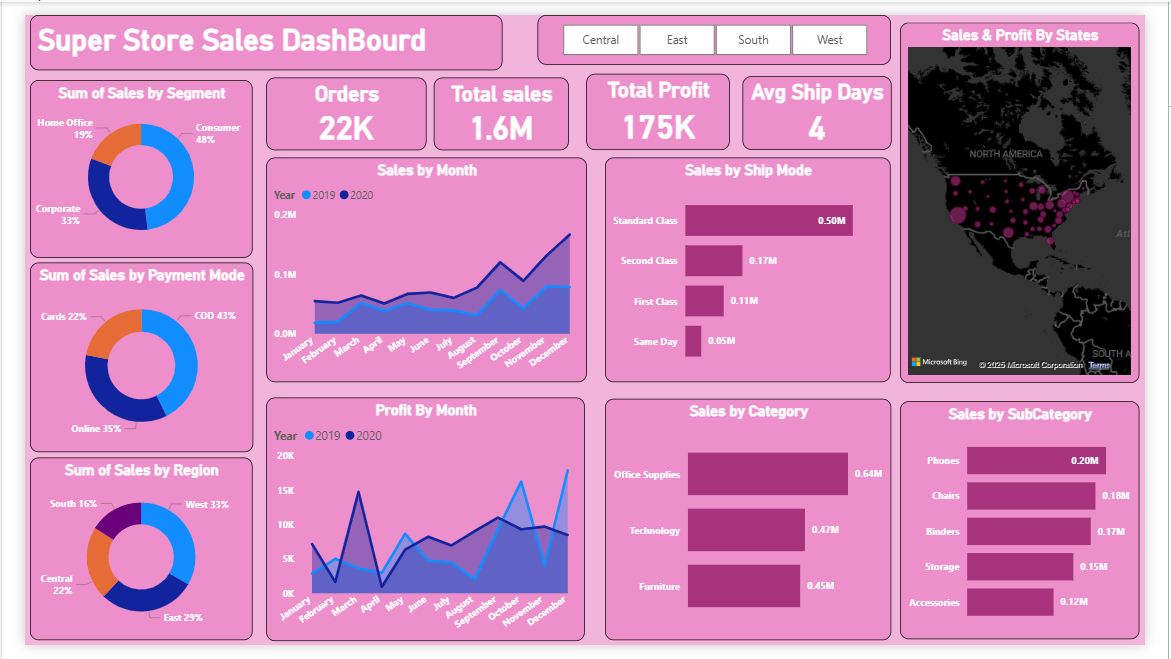

This screenshot's page, from the dashboard's own definition file:
{"tool":"powerbi","page":{"name":"Dashbourd","canvas":[1280,720],"ordinal":0},"visuals":[{"type":"clusteredBarChart","title":"Sales by Category","fields":{"Category":["SuperStore_Sales_Dataset (2).Category"],"Y":["Sum(SuperStore_Sales_Dataset (2).Sales)"]},"box":[662.9,438.6,327.1,275.7],"z":0},{"type":"clusteredBarChart","title":"Sales by SubCategory","fields":{"Category":["SuperStore_Sales_Dataset (2).Sub-Category"],"Y":["Sum(SuperStore_Sales_Dataset (2).Sales)"]},"box":[1000,441.7,273.3,271.7],"z":1000},{"type":"clusteredBarChart","title":"Sales by Ship Mode","fields":{"Category":["SuperStore_Sales_Dataset (2).Ship Mode"],"Y":["Sum(SuperStore_Sales_Dataset (2).Sales)"]},"box":[663.3,163.3,326.7,256.7],"z":2000},{"type":"areaChart","title":"Sales by Month","fields":{"Category":["SuperStore_Sales_Dataset (2).Order Date.Variation.Date Hierarchy.Month"],"Y":["Sum(SuperStore_Sales_Dataset (2).Sales)"],"Series":["SuperStore_Sales_Dataset (2).Order Date.Variation.Date Hierarchy.Year"]},"box":[275,163.3,366.7,256.7],"z":3000},{"type":"areaChart","title":"Profit By Month","fields":{"Category":["SuperStore_Sales_Dataset (2).Order Date.Variation.Date Hierarchy.Month"],"Series":["SuperStore_Sales_Dataset (2).Order Date.Variation.Date Hierarchy.Year"],"Y":["Sum(SuperStore_Sales_Dataset (2).Profit)"]},"box":[275.7,437.1,364.3,278.6],"z":4000},{"type":"map","title":"Sales & Profit By States","fields":{"Category":["SuperStore_Sales_Dataset (2).State"],"Size":["Sum(SuperStore_Sales_Dataset (2).Sales)"]},"box":[1000,8.3,273.3,411.7],"z":5000},{"type":"donutChart","fields":{"Category":["SuperStore_Sales_Dataset (2).Segment"],"Y":["Sum(SuperStore_Sales_Dataset (2).Sales)"]},"box":[5.7,74.3,254.3,202.9],"z":6000},{"type":"donutChart","fields":{"Y":["Sum(SuperStore_Sales_Dataset (2).Sales)"],"Category":["SuperStore_Sales_Dataset (2).Region"]},"box":[5.7,505.7,254.3,208.6],"z":7000},{"type":"donutChart","fields":{"Y":["Sum(SuperStore_Sales_Dataset (2).Sales)"],"Category":["SuperStore_Sales_Dataset (2).Payment Mode"]},"box":[5,283.3,255,216.7],"z":8000},{"type":"slicer","fields":{"Values":["SuperStore_Sales_Dataset (2).Region"]},"box":[585.7,0,404.3,57.1],"z":9000},{"type":"card","title":"Total sales","fields":{"Values":["Sum(SuperStore_Sales_Dataset (2).Sales)"]},"box":[467.1,71.4,154.3,82.9],"z":10000},{"type":"card","title":"Avg Ship Days","fields":{"Values":["Avg(SuperStore_Sales_Dataset (2).Average Delivery)"]},"box":[820,70,170,84.3],"z":11000},{"type":"card","title":"Total Profit","fields":{"Values":["Sum(SuperStore_Sales_Dataset (2).Profit)"]},"box":[641.4,67.1,164.3,87.1],"z":12000},{"type":"card","title":"Orders","fields":{"Values":["Sum(SuperStore_Sales_Dataset (2).Quantity)"]},"box":[275.7,71.4,182.9,82.9],"z":13000},{"type":"textbox","box":[5.7,0,540,62.9],"z":13001}]}

Visuals, with their boxes in screenshot pixels (x1, y1, x2, y2), scaled from the page's 1280x720 canvas onto the 1171x659 screenshot:
"Sales by Category" clusteredBarChart: [606, 401, 906, 654]
"Sales by SubCategory" clusteredBarChart: [915, 404, 1165, 653]
"Sales by Ship Mode" clusteredBarChart: [607, 149, 906, 384]
"Sales by Month" areaChart: [252, 149, 587, 384]
"Profit By Month" areaChart: [252, 400, 586, 655]
"Sales & Profit By States" map: [915, 8, 1165, 384]
donutChart - SuperStore_Sales_Dataset (2).Segment x Sum(SuperStore_Sales_Dataset (2).Sales): [5, 68, 238, 254]
donutChart - Sum(SuperStore_Sales_Dataset (2).Sales) x SuperStore_Sales_Dataset (2).Region: [5, 463, 238, 654]
donutChart - Sum(SuperStore_Sales_Dataset (2).Sales) x SuperStore_Sales_Dataset (2).Payment Mode: [5, 259, 238, 458]
slicer - SuperStore_Sales_Dataset (2).Region: [536, 0, 906, 52]
"Total sales" card: [427, 65, 568, 141]
"Avg Ship Days" card: [750, 64, 906, 141]
"Total Profit" card: [587, 61, 737, 141]
"Orders" card: [252, 65, 420, 141]
textbox: [5, 0, 499, 58]
